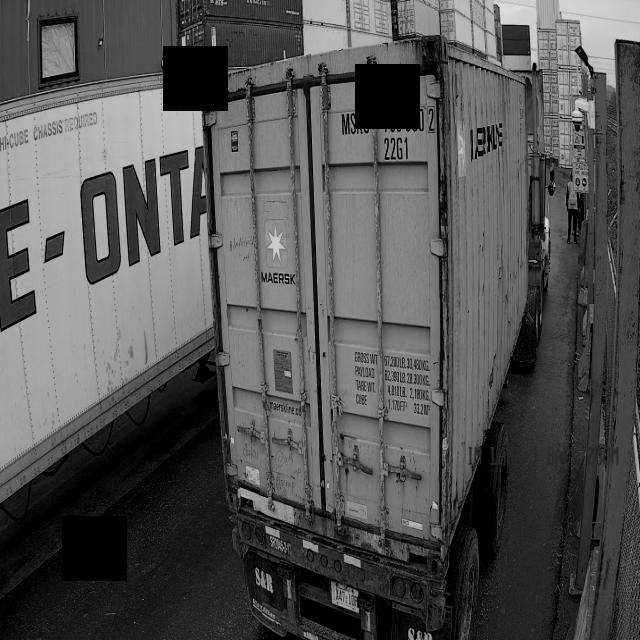container_company_logo: (260, 213, 297, 289)
container_number: (339, 103, 444, 165)
driver: (566, 174, 578, 242)
license_plate: (330, 578, 364, 611)
other_container_info: (349, 347, 434, 427)
truck_with_container: (202, 36, 555, 640), (0, 72, 212, 501)
